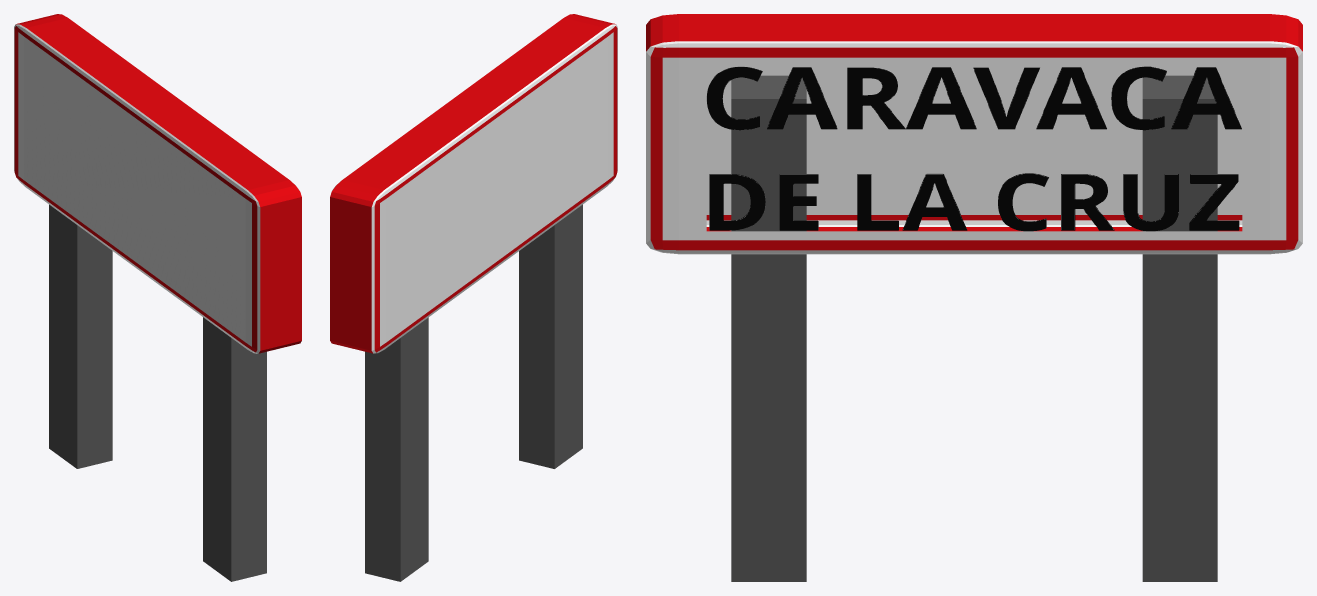
The model's file is Cartel.fbx.
The picture shows the model from 3 angles, left to right: view 1: azimuth 30°, elevation 25°; view 2: azimuth 150°, elevation 25°; view 3: azimuth 270°, elevation 25°; orthographic projection. The views are drawn at different scales.
Visible parts, largest first — view 1: Cube; view 2: Cube; view 3: Cube.
Part boxes in pixels (x1,y1,x2,y2): Cube: (14, 14, 301, 581); Cube: (330, 14, 617, 581); Cube: (646, 14, 1302, 581).
Bounding box in the file's own units: 26.8 × 225 × 246.
